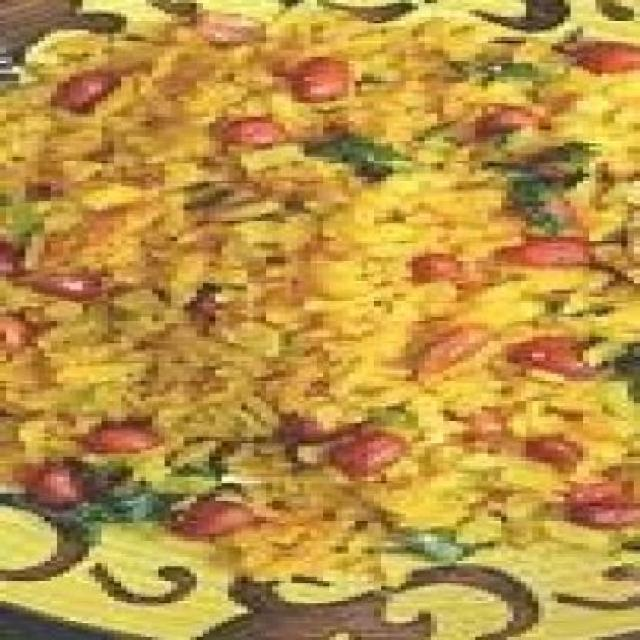poha: (0, 12, 640, 585)
